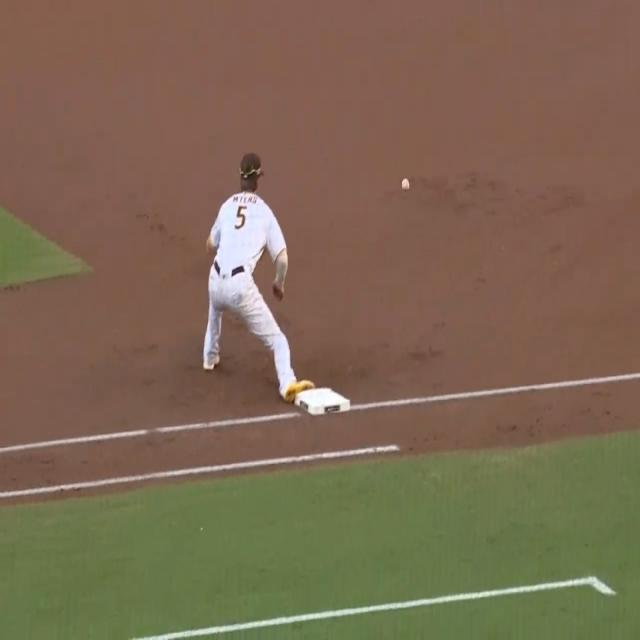baseball: (401, 178, 410, 193)
